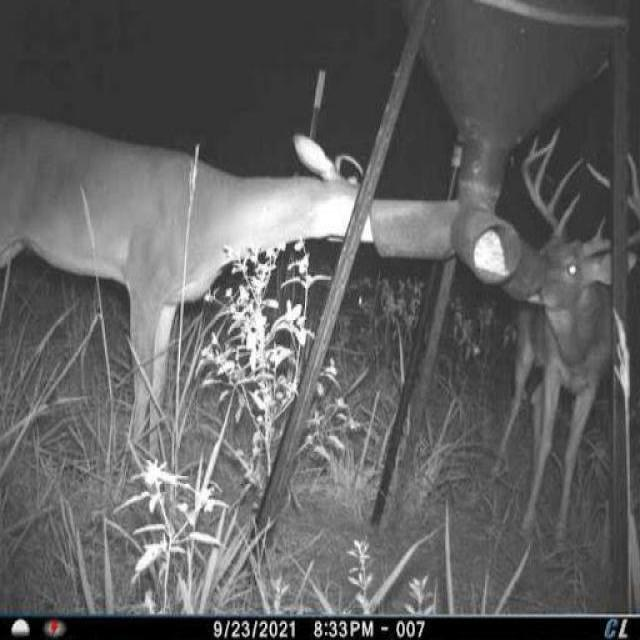deer: (0, 91, 381, 472), (500, 124, 640, 552)
